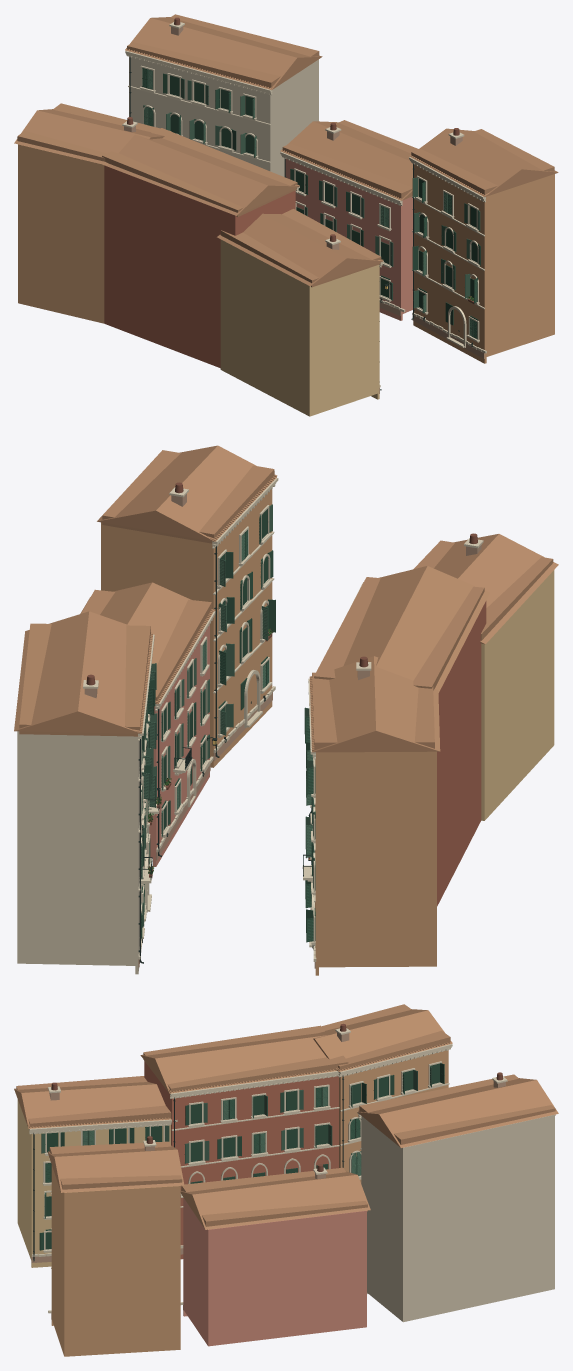
File: canal-02.glb
The picture shows the model from 3 angles, top to bottom: view 1: azimuth 30°, elevation 25°; view 2: azimuth 150°, elevation 25°; view 3: azimuth 270°, elevation 25°; orthographic projection. The views are drawn at different scales.
Parts seen in each view (by area): view 1: Main elevations / kit:roof, Main elevations / kit:walls:0, Main elevations / kit:walls:2, Main elevations / kit:walls:4, Distant elevations / kit:roof, Distant elevations / kit:walls:0, Main elevations / kit:stone, Distant elevations / kit:walls:3, Main elevations / kit:walls:3, Distant elevations / kit:greenDark, Distant elevations / kit:walls:1, Main elevations / kit:green (+6 smaller); view 2: Main elevations / kit:roof, Main elevations / kit:walls:0, Distant elevations / kit:walls:3, Distant elevations / kit:roof, Main elevations / kit:walls:2, Distant elevations / kit:walls:0, Main elevations / kit:stone, Main elevations / kit:walls:4, Main elevations / kit:walls:3, Main elevations / kit:green, Main elevations / kit:greenDark, Distant elevations / kit:walls:1 (+6 smaller); view 3: Main elevations / kit:walls:3, Main elevations / kit:roof, Main elevations / kit:walls:0, Main elevations / kit:walls:1, Distant elevations / kit:roof, Main elevations / kit:walls:4, Main elevations / kit:stone, Distant elevations / kit:greenDark, Distant elevations / kit:walls:0, Main elevations / kit:walls:2, Distant elevations / kit:walls:2, Main elevations / kit:greenDark (+8 smaller).
Boxes of the visible parts, bbox=[...] form: Main elevations / kit:roof: bbox=[14, 17, 558, 286]; Main elevations / kit:walls:0: bbox=[18, 144, 554, 363]; Main elevations / kit:walls:2: bbox=[220, 239, 379, 416]; Main elevations / kit:walls:4: bbox=[104, 165, 237, 368]; Distant elevations / kit:roof: bbox=[17, 14, 554, 287]; Distant elevations / kit:walls:0: bbox=[416, 178, 535, 357]; Main elevations / kit:stone: bbox=[122, 22, 486, 387]; Distant elevations / kit:walls:3: bbox=[129, 56, 277, 174]; Main elevations / kit:walls:3: bbox=[181, 59, 318, 176]; Distant elevations / kit:greenDark: bbox=[143, 70, 478, 325]; Distant elevations / kit:walls:1: bbox=[289, 160, 402, 314]; Main elevations / kit:green: bbox=[144, 69, 480, 336]; Main elevations / kit:roof: bbox=[14, 445, 558, 752]; Main elevations / kit:walls:0: bbox=[101, 489, 436, 975]; Distant elevations / kit:walls:3: bbox=[52, 722, 149, 965]; Distant elevations / kit:roof: bbox=[19, 450, 553, 752]; Main elevations / kit:walls:2: bbox=[481, 570, 554, 820]; Distant elevations / kit:walls:0: bbox=[210, 512, 348, 967]; Main elevations / kit:stone: bbox=[83, 478, 483, 961]; Main elevations / kit:walls:4: bbox=[437, 601, 486, 906]; Main elevations / kit:walls:3: bbox=[17, 731, 147, 974]; Main elevations / kit:green: bbox=[141, 504, 314, 927]; Main elevations / kit:greenDark: bbox=[141, 515, 314, 942]; Distant elevations / kit:walls:1: bbox=[149, 624, 209, 858]; Main elevations / kit:walls:3: bbox=[361, 1114, 554, 1322]; Main elevations / kit:roof: bbox=[14, 1009, 558, 1229]; Main elevations / kit:walls:0: bbox=[51, 1050, 448, 1356]; Main elevations / kit:walls:1: bbox=[183, 1197, 366, 1346]; Distant elevations / kit:roof: bbox=[16, 1004, 555, 1226]; Main elevations / kit:walls:4: bbox=[144, 1061, 338, 1259]; Main elevations / kit:stone: bbox=[29, 1028, 507, 1313]; Distant elevations / kit:greenDark: bbox=[45, 1063, 439, 1249]; Distant elevations / kit:walls:0: bbox=[51, 1053, 436, 1344]; Main elevations / kit:walls:2: bbox=[17, 1099, 146, 1267]; Distant elevations / kit:walls:2: bbox=[31, 1125, 170, 1256]; Main elevations / kit:greenDark: bbox=[39, 1063, 444, 1250].
Size of the model in its own units: 39.07 by 20.33 by 48.21.
